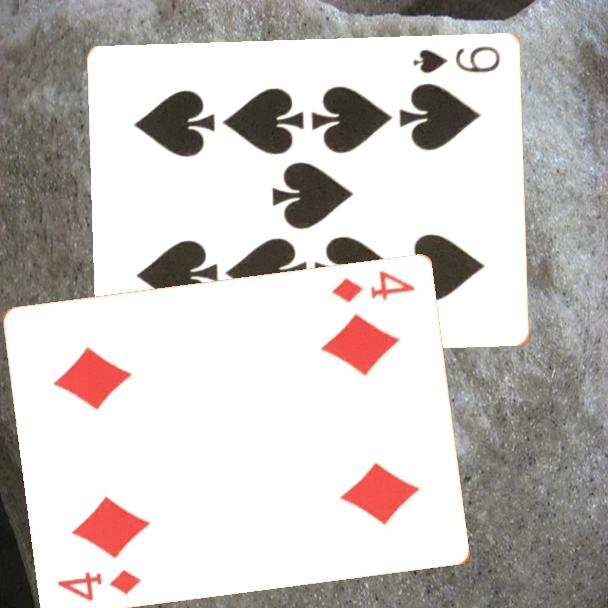d04: (53, 566, 144, 605), (328, 268, 417, 306)
s09: (409, 42, 504, 76)
